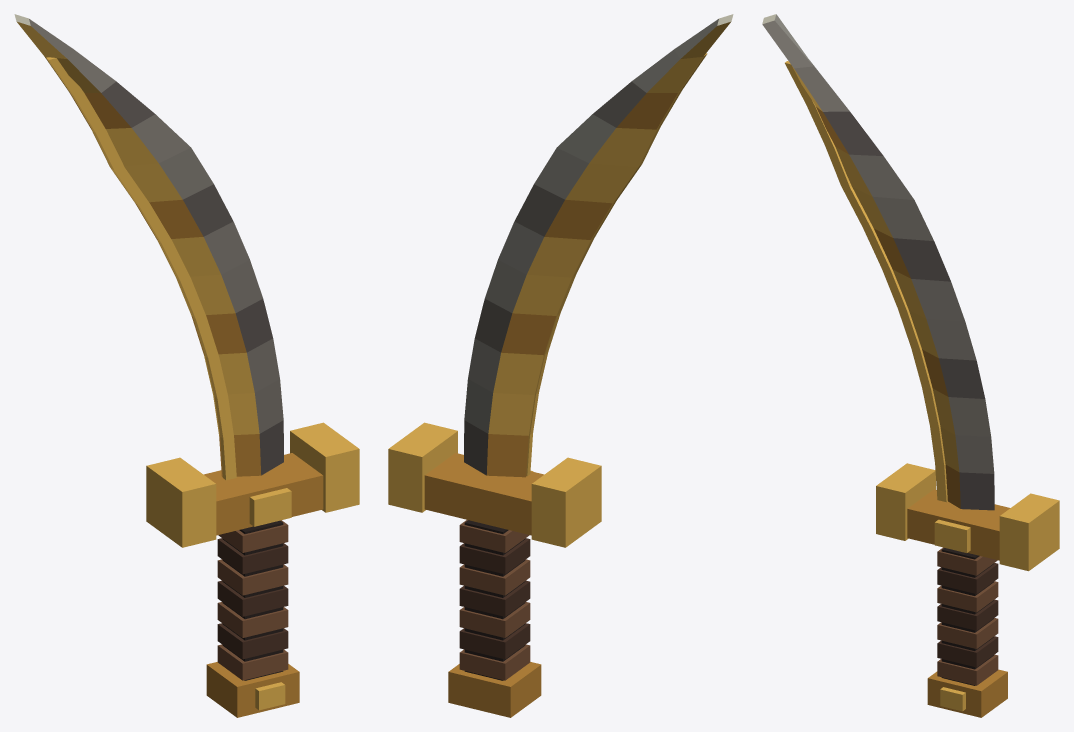
Rendered from ChiefScimitar.glb.
3 views of the same model, side by side, from view 1: azimuth 30°, elevation 25°; view 2: azimuth 150°, elevation 25°; view 3: azimuth 330°, elevation 25° (orthographic). The views are drawn at different scales.
Visible parts, largest first — view 1: ChiefScimitar_Mesh; view 2: ChiefScimitar_Mesh; view 3: ChiefScimitar_Mesh.
Part boxes in pixels (x1,y1,x2,y2): ChiefScimitar_Mesh: (14, 14, 359, 717); ChiefScimitar_Mesh: (388, 14, 733, 717); ChiefScimitar_Mesh: (762, 14, 1059, 717).
Bounding box in the file's own units: 0.5488 × 1.19 × 0.1105.
Materials: 1 (1 with a texture image).
